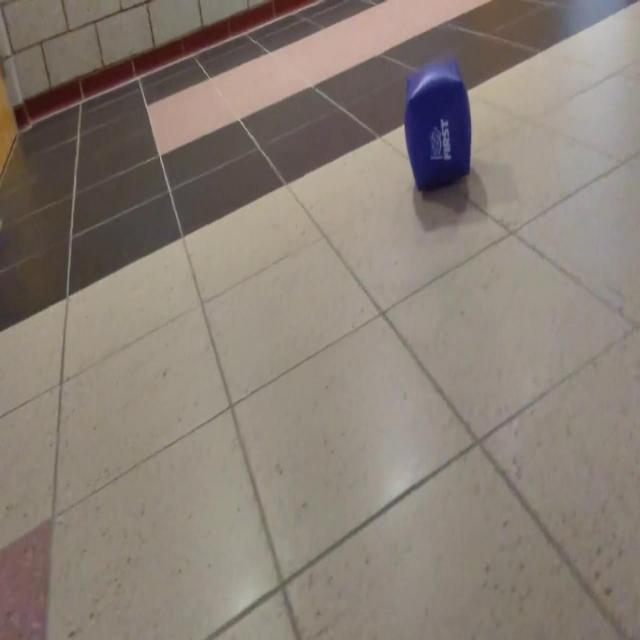frc_cube: (402, 59, 470, 194)
